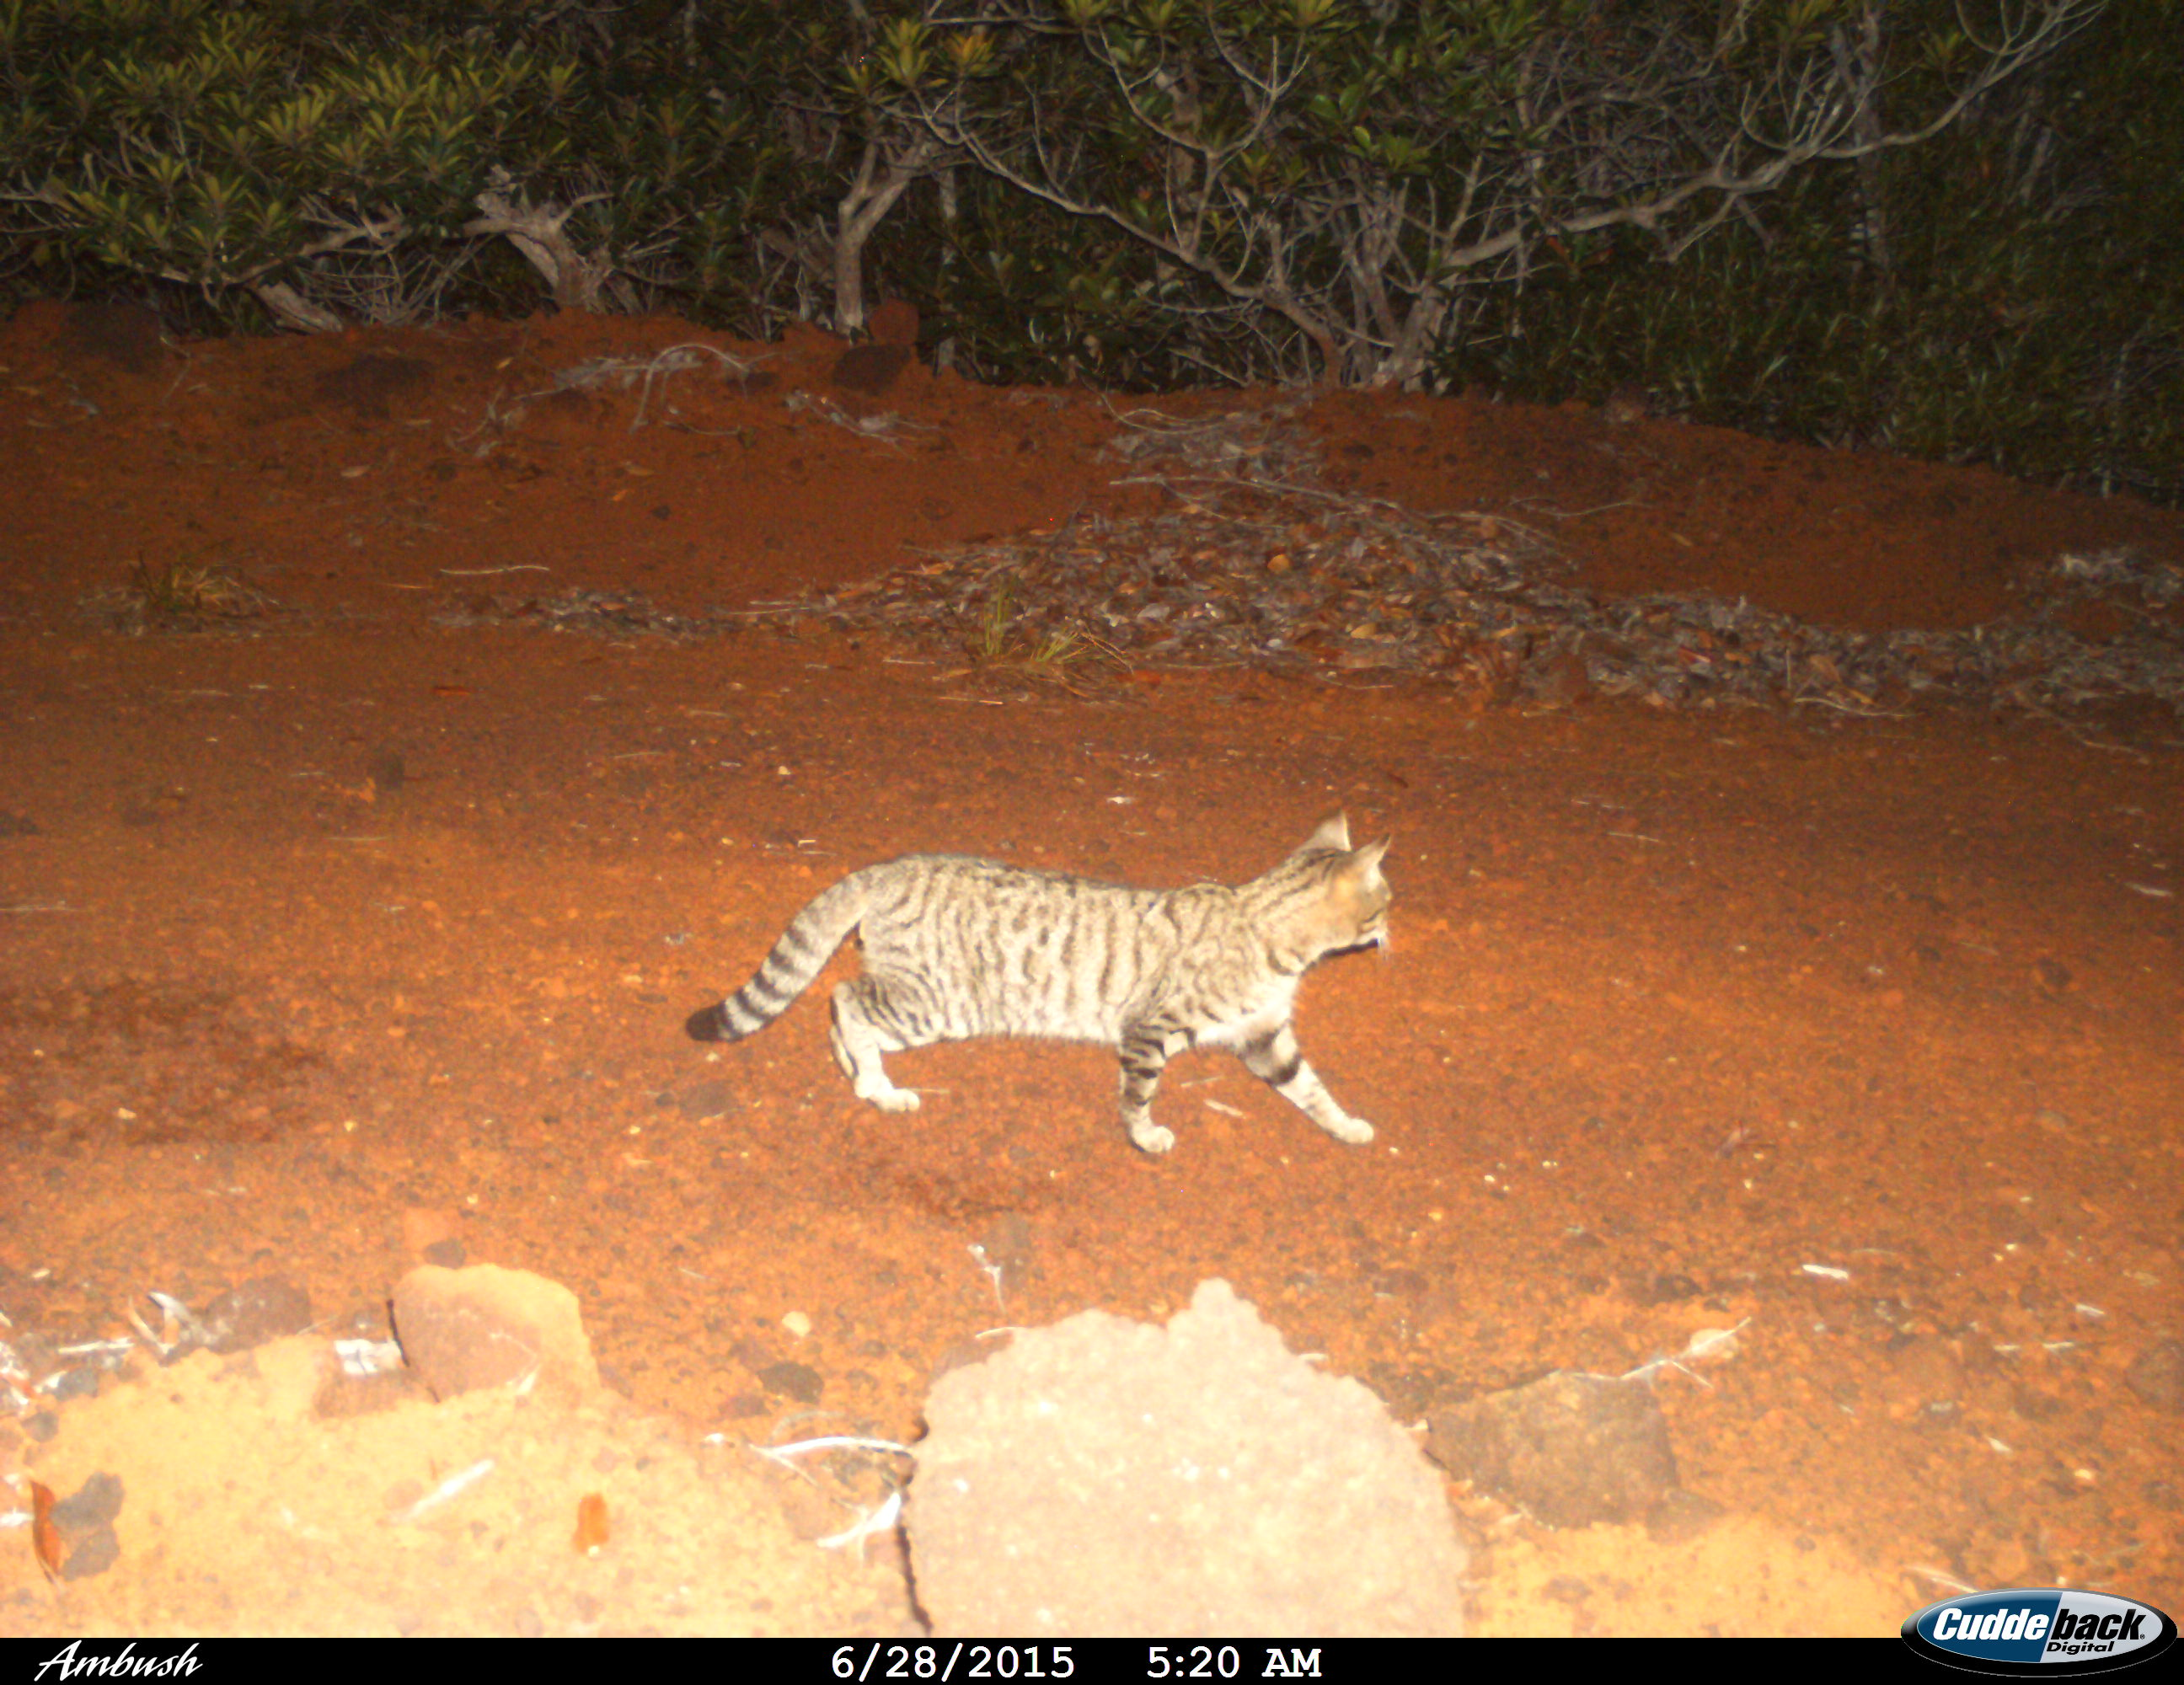cat: (676, 802, 1430, 1152)
